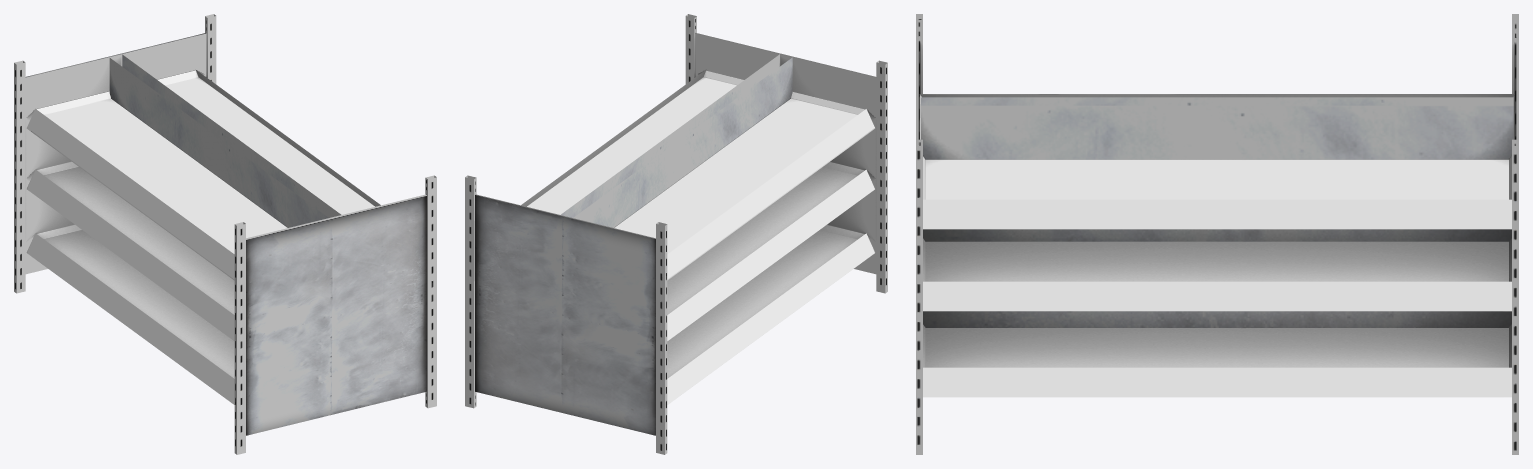
The model's file is rack.fbx.
3 views of the same model, side by side, from view 1: azimuth 30°, elevation 25°; view 2: azimuth 150°, elevation 25°; view 3: azimuth 270°, elevation 25° (orthographic). The views are drawn at different scales.
Parts seen in each view (by area): view 1: Cube; view 2: Cube; view 3: Cube.
Boxes of the visible parts, <box> form: Cube: <box>14,14,436,454</box>; Cube: <box>465,14,887,454</box>; Cube: <box>916,14,1518,454</box>.
Size of the model in its own units: 207 by 226 by 400.
Materials: 1 (1 with a texture image).
